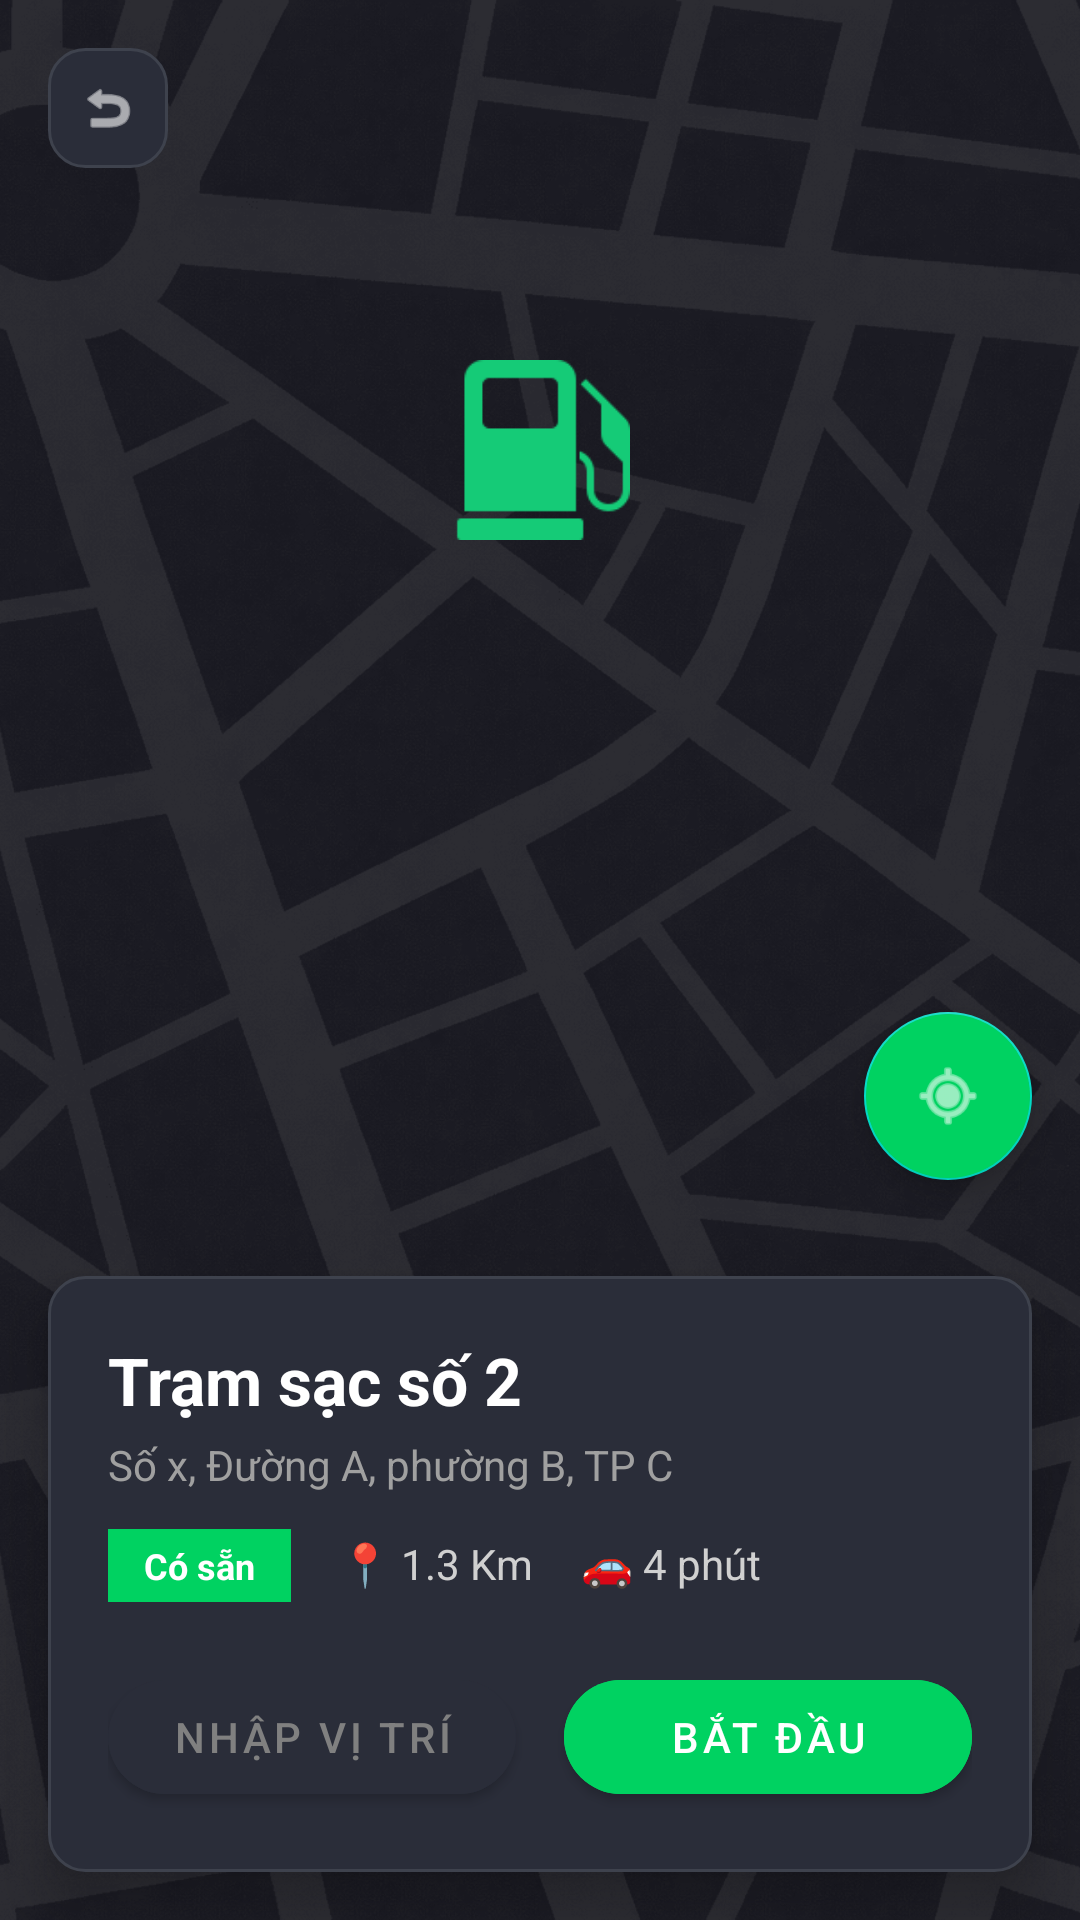

Point at icon controls on the screen. Image size 1080x1920, points as [x,y].
gas: [543,450]
mylocation: [948,1096]
revert: [108,108]
